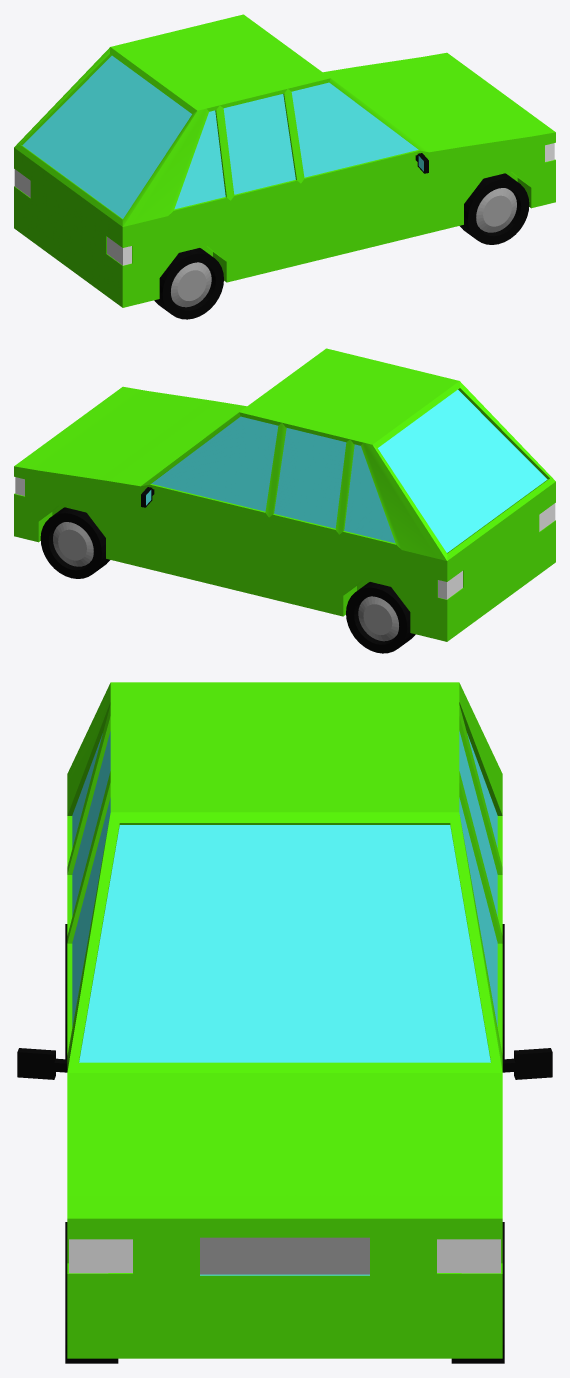
Rendered from Car 1.1.obj.
3 renders of one model, top to bottom at view 1: azimuth 30°, elevation 25°; view 2: azimuth 150°, elevation 25°; view 3: azimuth 270°, elevation 25°, orthographic. The views are drawn at different scales.
Visible parts, largest first — view 1: Car 1.1; view 2: Car 1.1; view 3: Car 1.1.
Part boxes in pixels (x1,y1,x2,y2): Car 1.1: (14,14,555,319); Car 1.1: (14,348,555,653); Car 1.1: (17,682,552,1363).
Bounding box in the file's own units: 4.6 × 1.99 × 2.46.
Materials: 1 (1 with a texture image).
